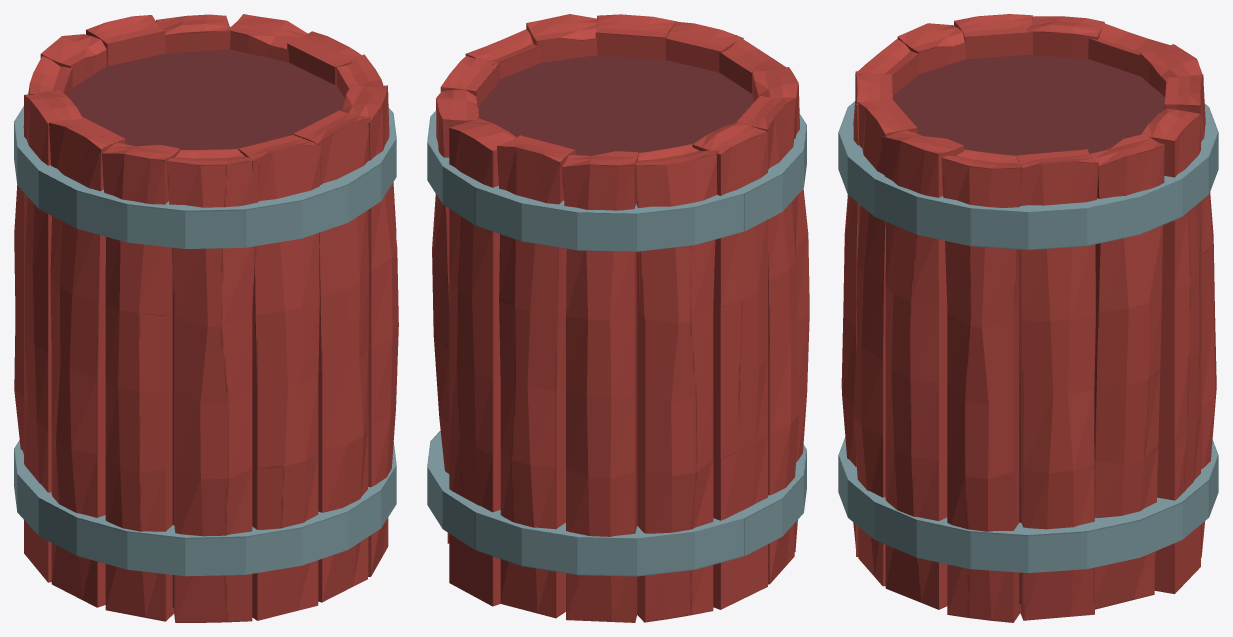
The model's file is BarrelFBXFinal.fbx.
3 renders of one model, left to right at view 1: azimuth 30°, elevation 25°; view 2: azimuth 150°, elevation 25°; view 3: azimuth 270°, elevation 25°, orthographic.
Parts seen in each view (by area): view 1: group_1; view 2: group_1; view 3: group_1.
Boxes of the visible parts, x1,y1,x2,y2 form: group_1: [14, 14, 398, 622]; group_1: [427, 14, 809, 622]; group_1: [838, 14, 1218, 622].
Bounding box in the file's own units: 145 × 195 × 145.
1 material, 1 textured.
